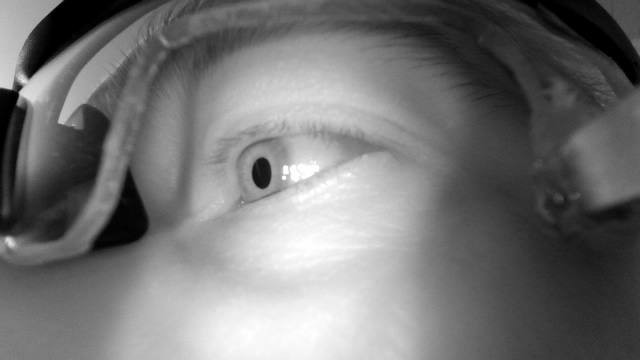pupil: (251, 156, 272, 190)
